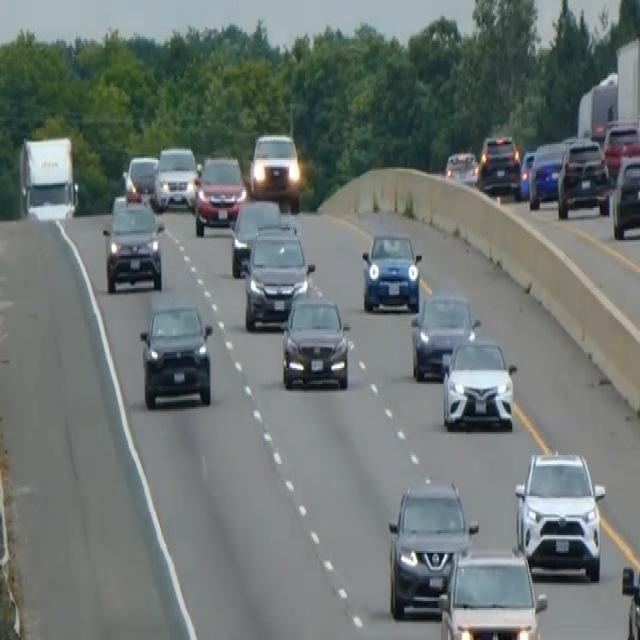car: (387, 478, 478, 619), (513, 448, 606, 581), (437, 544, 547, 638), (139, 300, 213, 409), (243, 224, 314, 331), (440, 332, 517, 430), (281, 288, 350, 391), (102, 198, 165, 294), (410, 290, 477, 380), (360, 229, 422, 313), (556, 135, 610, 219), (193, 153, 246, 235), (230, 195, 281, 278), (248, 130, 301, 208), (154, 144, 198, 210), (477, 132, 520, 196), (528, 138, 566, 210), (611, 148, 639, 240), (602, 118, 639, 182), (124, 153, 158, 203), (444, 148, 478, 186), (517, 148, 535, 199)
lorry: (17, 133, 79, 219)
